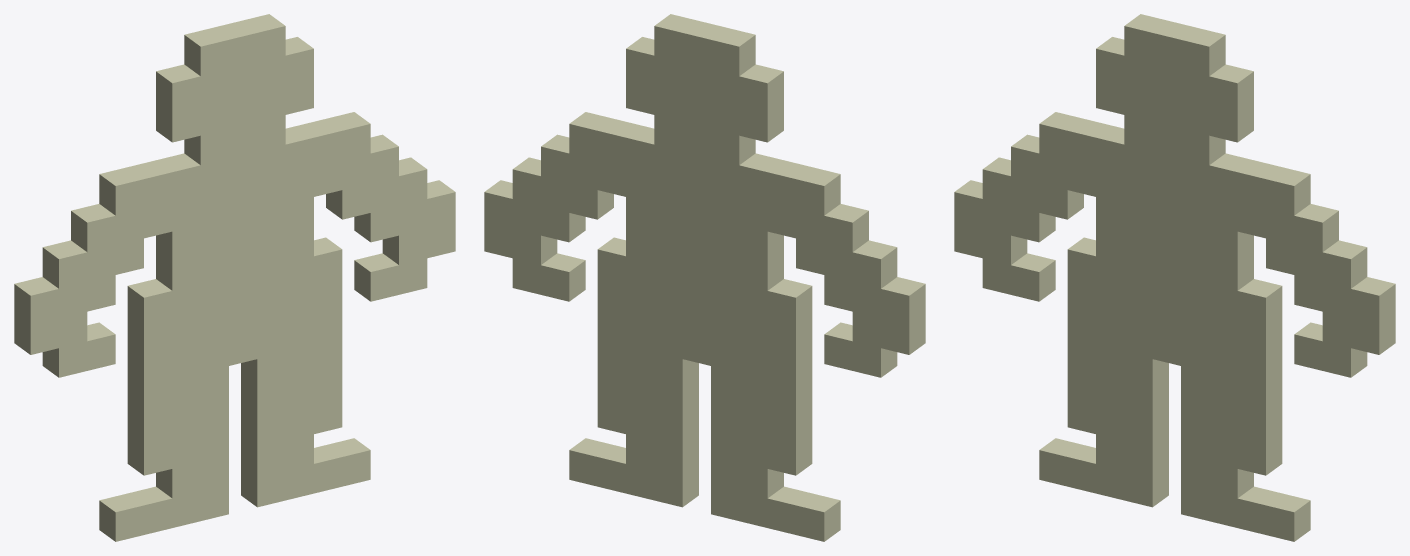
The model's file is Dwarf-Tan.vox.obj.
3 views of the same model, side by side, from view 1: azimuth 30°, elevation 25°; view 2: azimuth 150°, elevation 25°; view 3: azimuth 330°, elevation 25° (orthographic).
Size of the model in its own units: 1.5 by 1.6 by 0.1.
Materials: 1 (1 with a texture image).
